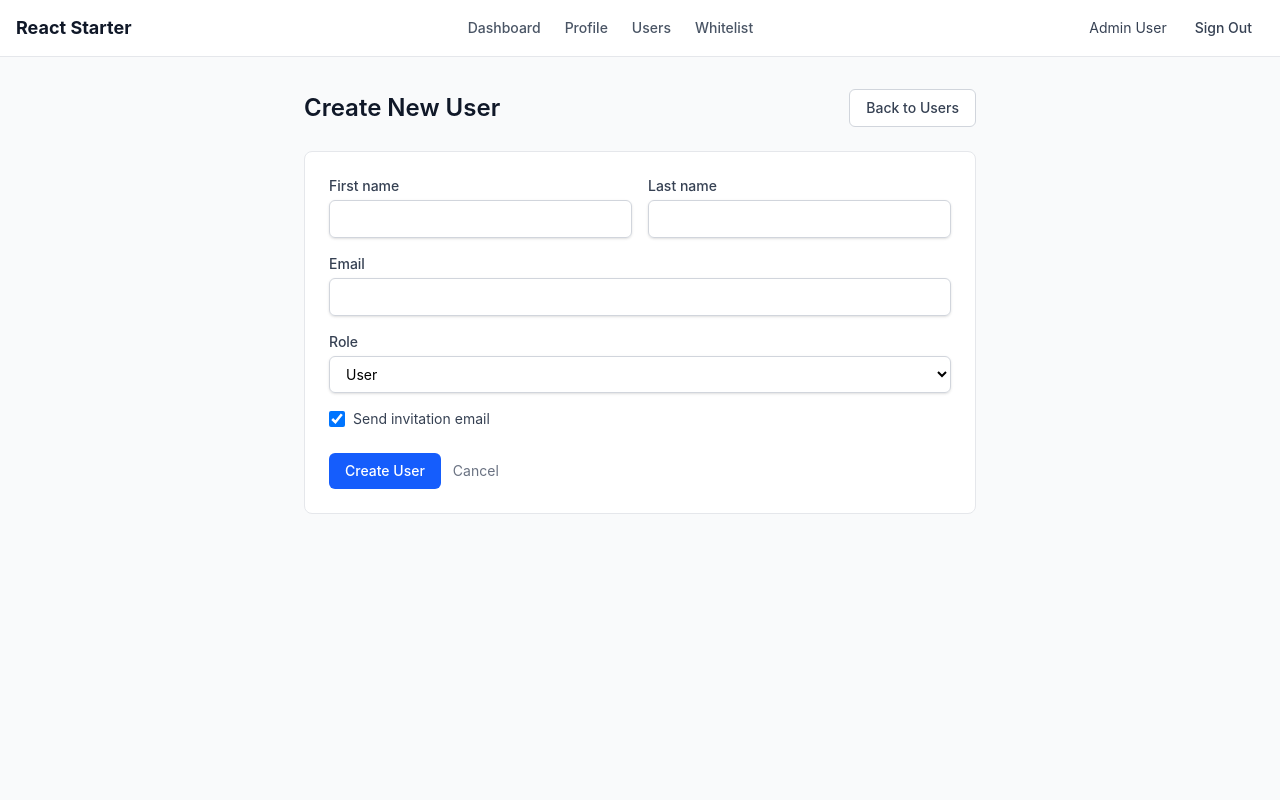
Test: CreateUserPage › shows form-level server error for generic ApiError
Type "New" into the field labelled "First name". click: coordinates (480, 219)
box: [329,200,632,238]
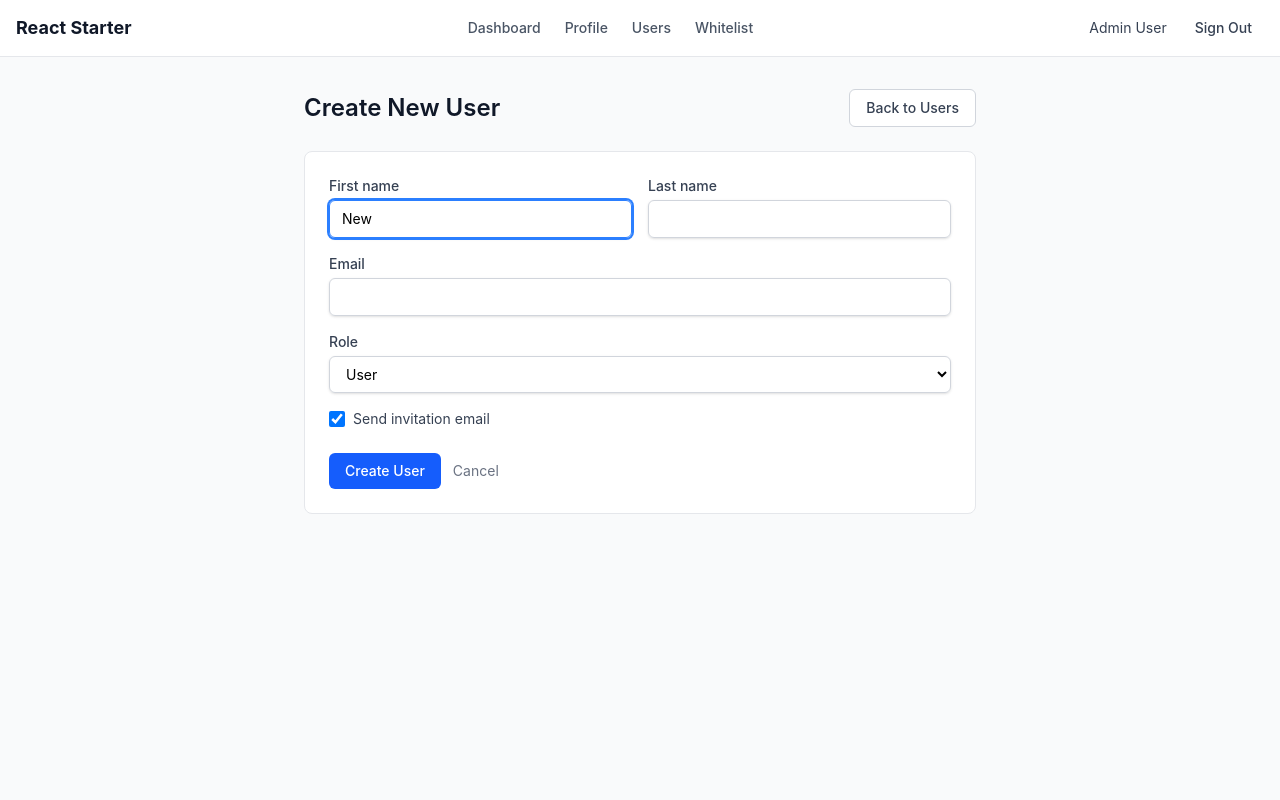
Type "User" into the field labelled "Last name". click: coordinates (800, 219)
box: [648,200,951,238]
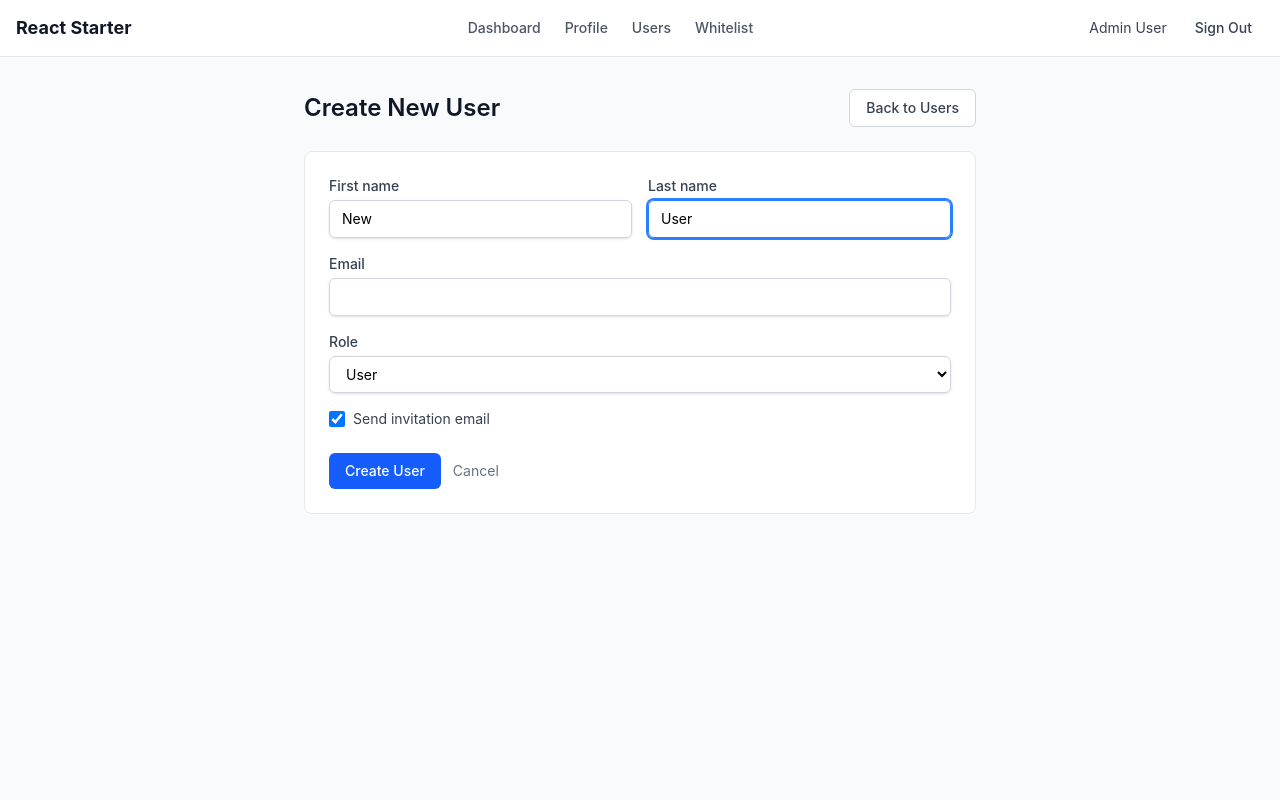
Type "newuser@example.com" into the field labelled "Email". click: coordinates (640, 297)
box: [329,278,951,316]
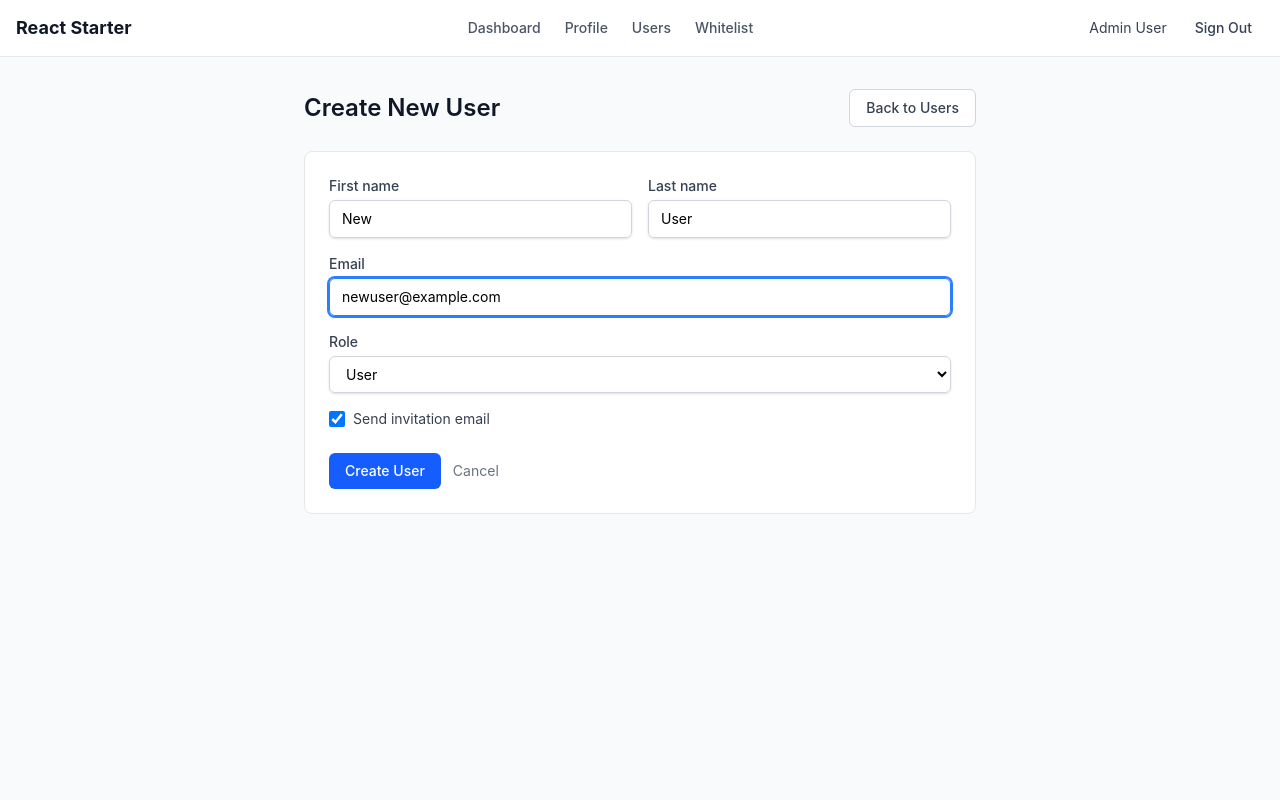
Click the button "Create User". click: coordinates (385, 471)
box: [329,453,441,489]
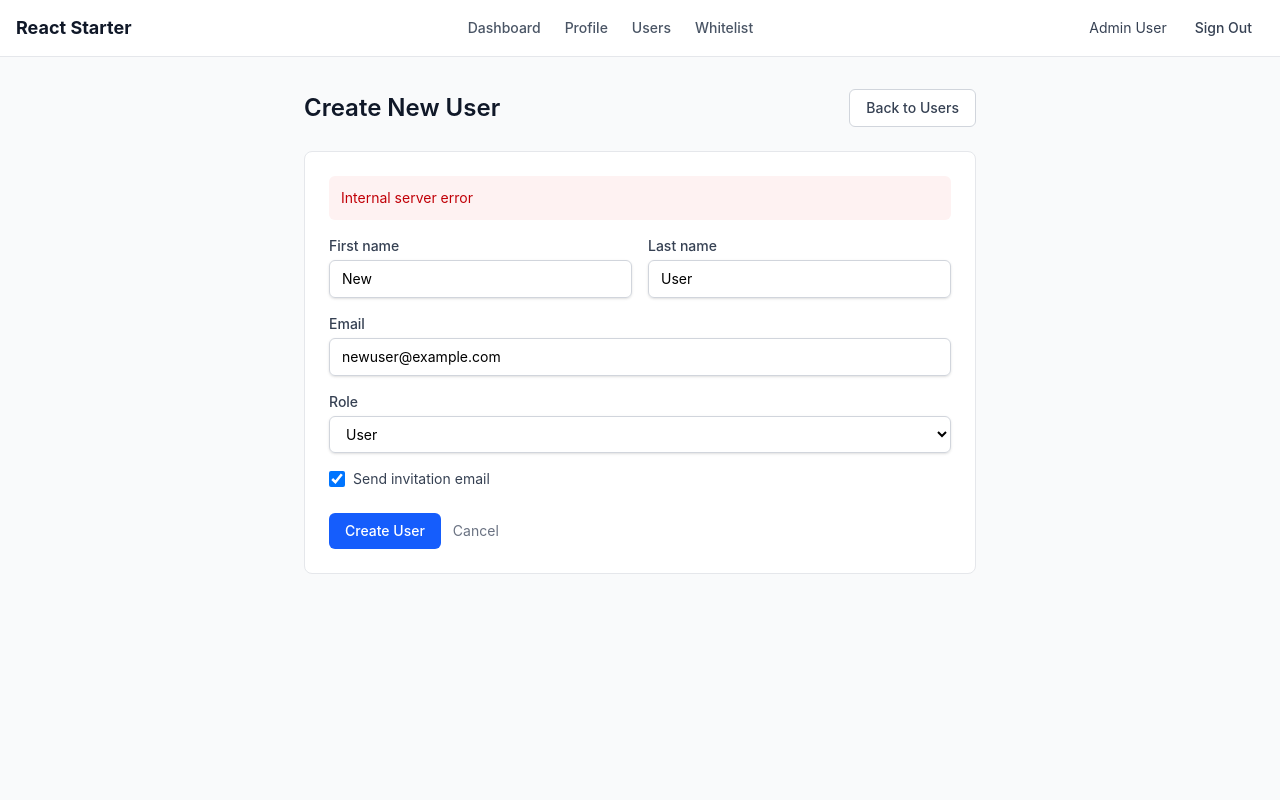
Expected: the message reads "Internal server error", [341,189,473,206]
